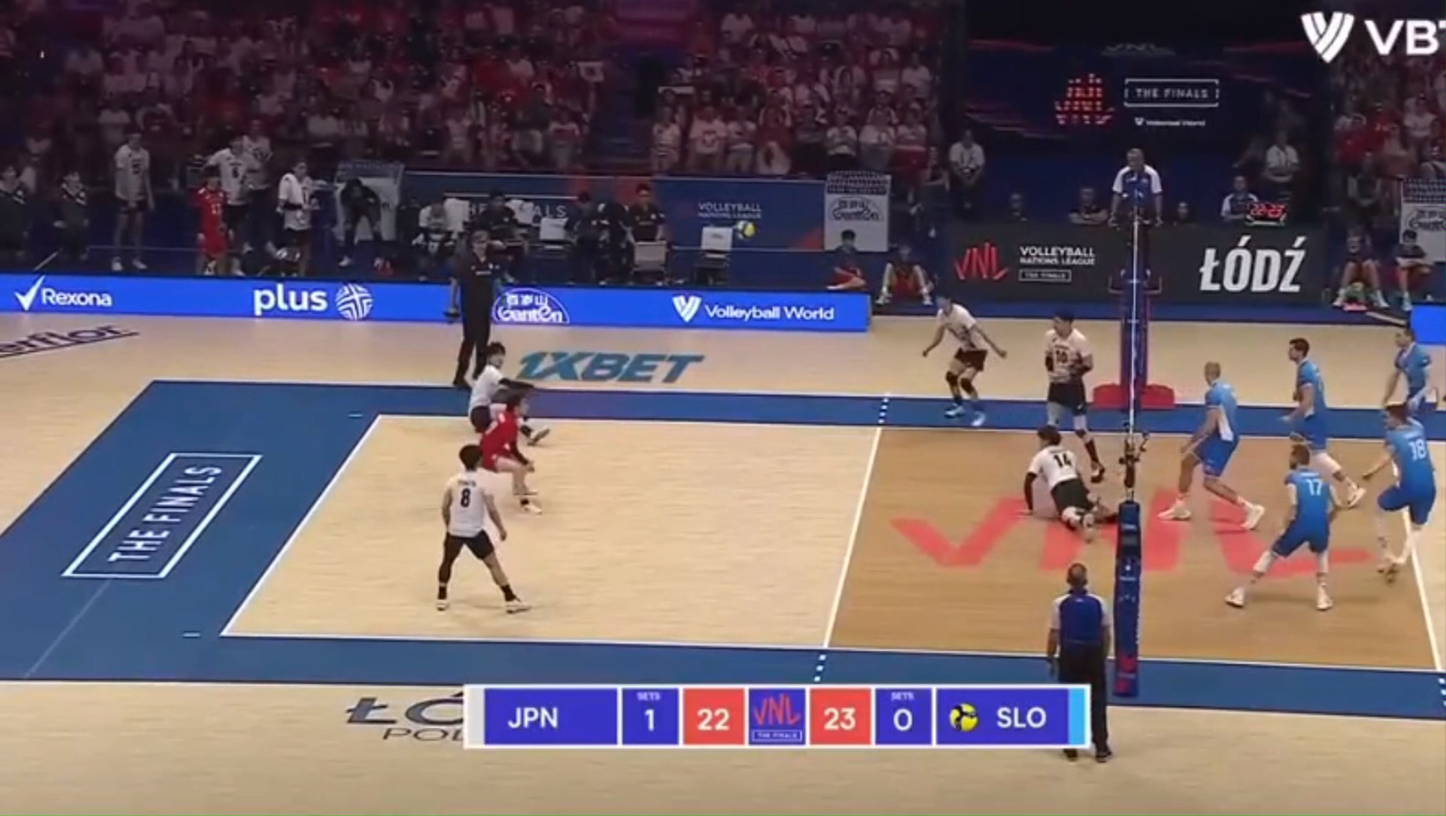ball: (734, 220, 755, 240)
player: (1227, 442, 1340, 610), (1159, 361, 1265, 529), (1284, 337, 1364, 508), (1361, 402, 1436, 579), (922, 293, 1006, 426), (1383, 326, 1439, 419)
player 1: (437, 443, 529, 613), (922, 293, 1006, 426), (1023, 425, 1117, 542), (1045, 312, 1105, 482), (480, 391, 536, 512), (468, 342, 532, 431), (521, 415, 549, 444)
referee: (1046, 562, 1112, 761), (450, 231, 500, 388), (1108, 148, 1163, 288)
